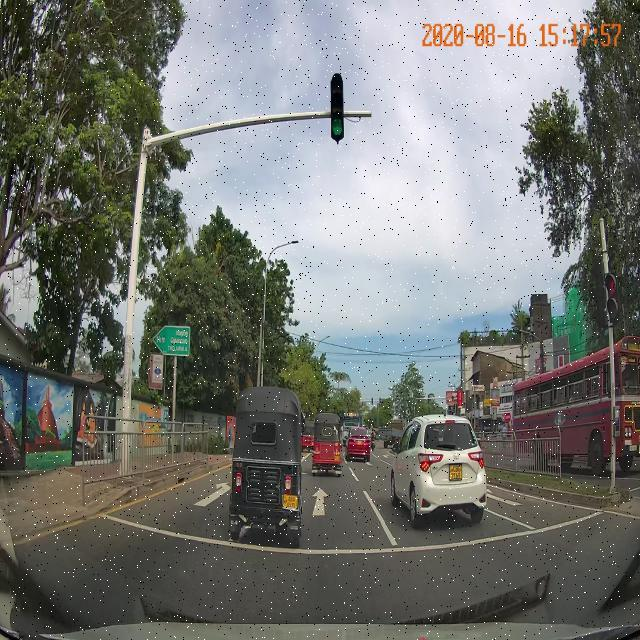forward: (301, 486, 385, 524)
